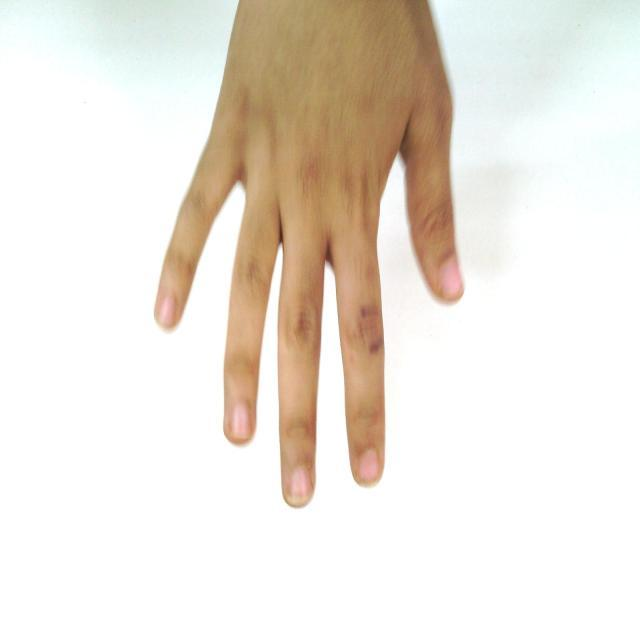Fingernail: (440, 259, 462, 298), (289, 466, 309, 502), (359, 449, 379, 483), (232, 404, 250, 437), (157, 296, 175, 325)
